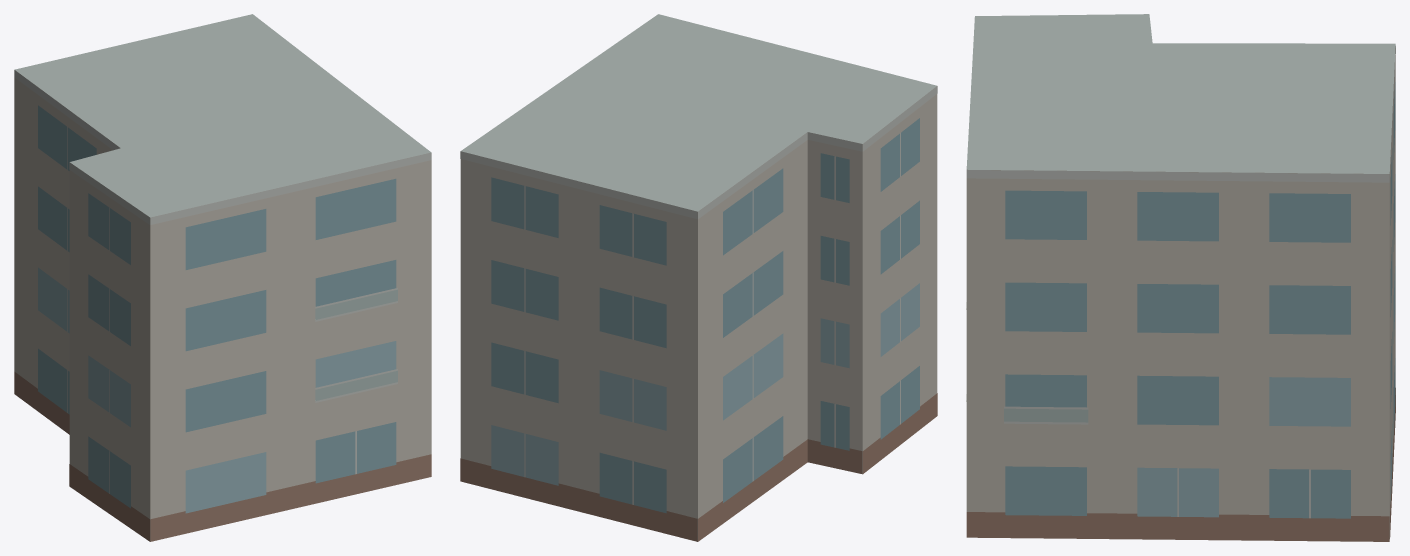
The model's file is survey-upis-32690533.glb.
3 views of the same model, side by side, from view 1: azimuth 30°, elevation 25°; view 2: azimuth 150°, elevation 25°; view 3: azimuth 270°, elevation 25° (orthographic). The views are drawn at different scales.
Visible parts, largest first — view 1: survey-upis-32690533.tmp; view 2: survey-upis-32690533.tmp; view 3: survey-upis-32690533.tmp.
Boxes of the visible parts, <box> form: survey-upis-32690533.tmp: <box>14,14,431,541</box>; survey-upis-32690533.tmp: <box>460,14,937,541</box>; survey-upis-32690533.tmp: <box>966,14,1395,541</box>.
Bounding box in the file's own units: 9.71 × 10.4 × 11.02.
